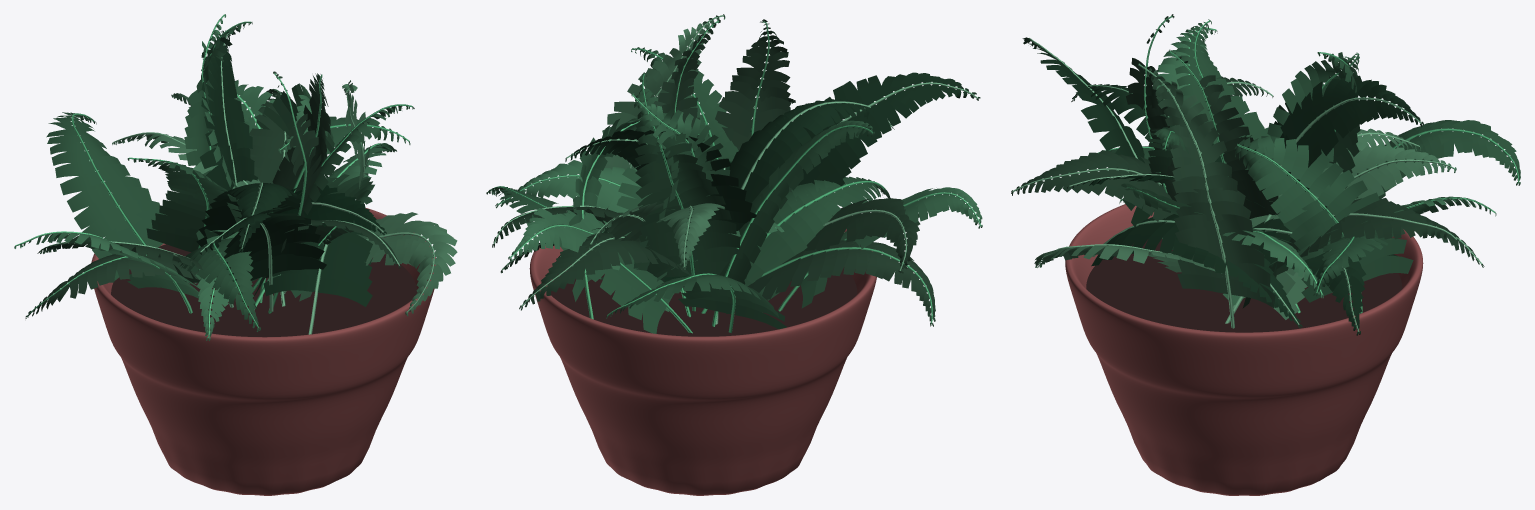
File: FernPlant01.fbx
The picture shows the model from 3 angles, left to right: view 1: azimuth 30°, elevation 25°; view 2: azimuth 150°, elevation 25°; view 3: azimuth 270°, elevation 25°; orthographic projection. The views are drawn at different scales.
Parts seen in each view (by area): view 1: Lpot, fernsTextured9Leaf, fernsTextured7Leaf, dirt, fernsTextured8Leaf, fernsTextured4Leaf, fernsTextured1Leaf, fernsTextured5Leaf, fernsTextured6Leaf, fernsTextured9Main, fernsTextured7Main, fernsTextured1Main (+2 smaller); view 2: Lpot, fernsTextured9Leaf, fernsTextured7Leaf, fernsTextured8Leaf, fernsTextured1Leaf, fernsTextured5Leaf, dirt, fernsTextured4Leaf, fernsTextured9Main, fernsTextured8Main, fernsTextured1Main, fernsTextured7Main (+1 smaller); view 3: Lpot, fernsTextured4Leaf, fernsTextured7Leaf, fernsTextured8Leaf, fernsTextured9Leaf, dirt, fernsTextured5Leaf, fernsTextured1Leaf, fernsTextured4Main, fernsTextured7Main, fernsTextured9Main, fernsTextured8Main (+2 smaller).
Boxes of the visible parts, box(x1,y1,x2,y2) form: Lpot: box(91, 208, 435, 495); fernsTextured9Leaf: box(46, 22, 414, 331); fernsTextured7Leaf: box(196, 30, 372, 306); dirt: box(111, 244, 417, 337); fernsTextured8Leaf: box(14, 14, 396, 340); fernsTextured4Leaf: box(112, 80, 457, 316); fernsTextured1Leaf: box(25, 71, 330, 318); fernsTextured5Leaf: box(37, 89, 400, 310); fernsTextured6Leaf: box(264, 185, 386, 235); fernsTextured9Main: box(71, 21, 412, 327); fernsTextured7Main: box(200, 33, 332, 334); fernsTextured1Main: box(27, 73, 322, 316); Lpot: box(529, 229, 876, 495); fernsTextured9Leaf: box(486, 47, 890, 333); fernsTextured7Leaf: box(500, 72, 980, 273); fernsTextured8Leaf: box(495, 93, 982, 311); fernsTextured1Leaf: box(658, 19, 935, 326); fernsTextured5Leaf: box(492, 98, 920, 310); dirt: box(551, 264, 857, 336); fernsTextured4Leaf: box(589, 14, 725, 279); fernsTextured9Main: box(488, 48, 885, 333); fernsTextured8Main: box(497, 94, 980, 319); fernsTextured1Main: box(674, 20, 932, 323); fernsTextured7Main: box(502, 82, 977, 270); Lpot: box(1065, 204, 1423, 495); fernsTextured4Leaf: box(1034, 63, 1456, 319); fernsTextured7Leaf: box(1022, 37, 1423, 335); fernsTextured8Leaf: box(1119, 26, 1496, 305); fernsTextured9Leaf: box(1108, 19, 1520, 296); dirt: box(1086, 239, 1402, 332); fernsTextured5Leaf: box(1011, 76, 1484, 308); fernsTextured1Leaf: box(1126, 14, 1279, 219); fernsTextured4Main: box(1039, 64, 1454, 328); fernsTextured7Main: box(1028, 38, 1421, 331); fernsTextured9Main: box(1068, 20, 1519, 292); fernsTextured8Main: box(1120, 27, 1495, 313).
Size of the model in its own units: 5.07 by 4.53 by 4.87.
